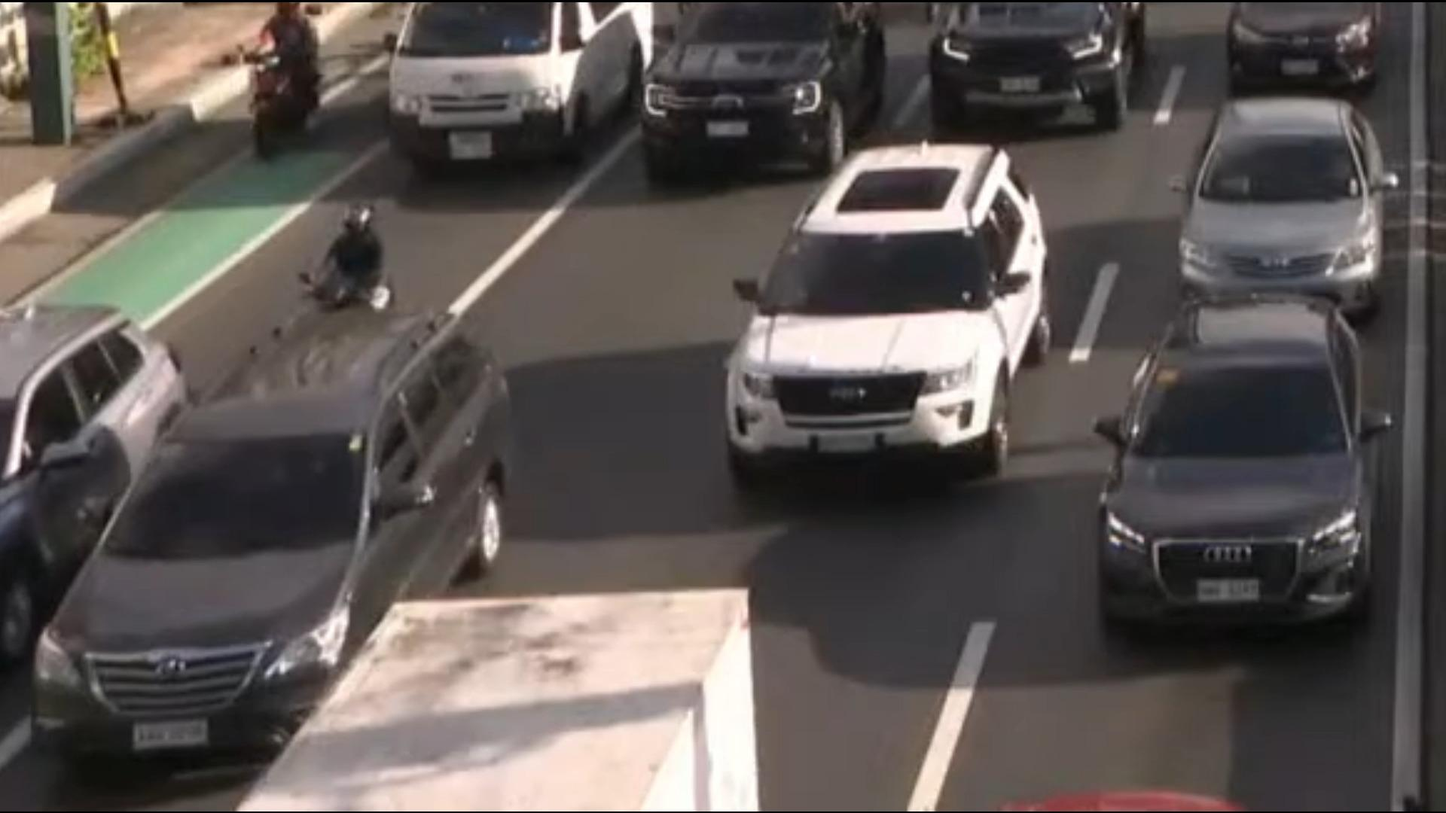Motorcycle: (286, 190, 433, 331), (234, 0, 329, 172)
SUV: (1, 303, 545, 788), (692, 104, 1111, 518), (1076, 294, 1397, 649), (0, 269, 196, 658), (644, 0, 884, 172), (927, 0, 1140, 136)
Sedan: (1144, 70, 1433, 322)
Truck: (149, 567, 831, 813)
Van: (377, 0, 665, 160)
